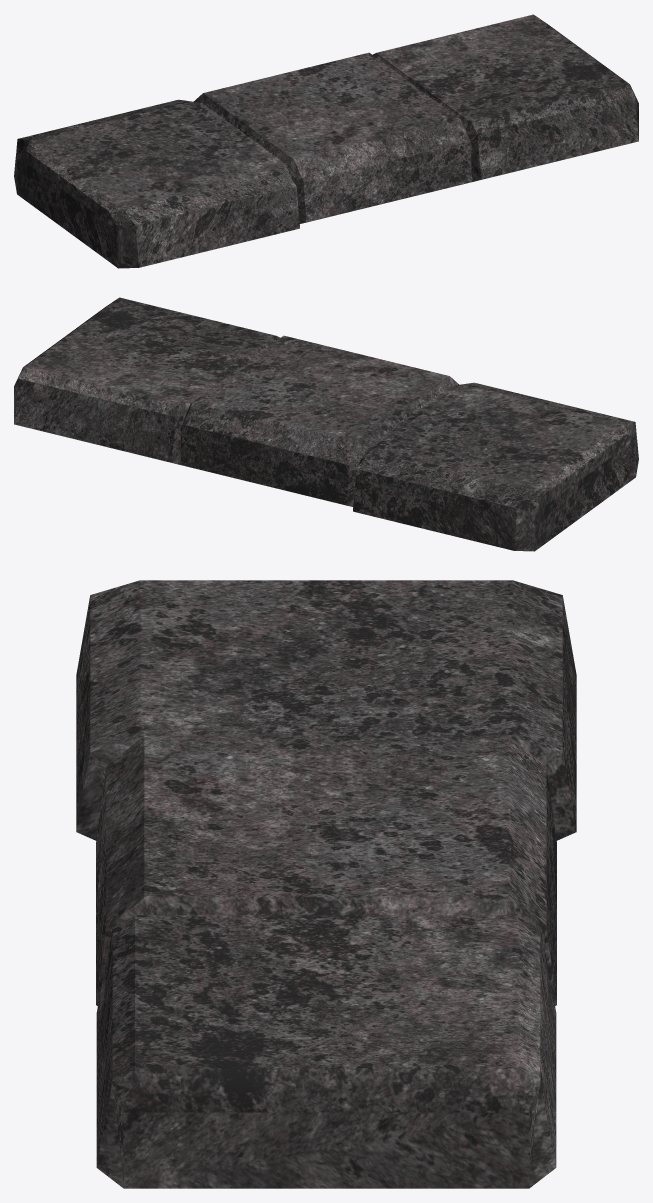
Rendered from Wall_short1.fbx.
3 renders of one model, top to bottom at view 1: azimuth 30°, elevation 25°; view 2: azimuth 150°, elevation 25°; view 3: azimuth 270°, elevation 25°, orthographic. The views are drawn at different scales.
Visible parts, largest first — view 1: Wall_short1; view 2: Wall_short1; view 3: Wall_short1.
Boxes of the visible parts, <box> form: Wall_short1: <box>14,14,638,268</box>; Wall_short1: <box>14,297,638,551</box>; Wall_short1: <box>76,580,576,1188</box>.
Size of the model in its own units: 3 by 0.3348 by 1.25.
1 material, 1 textured.
